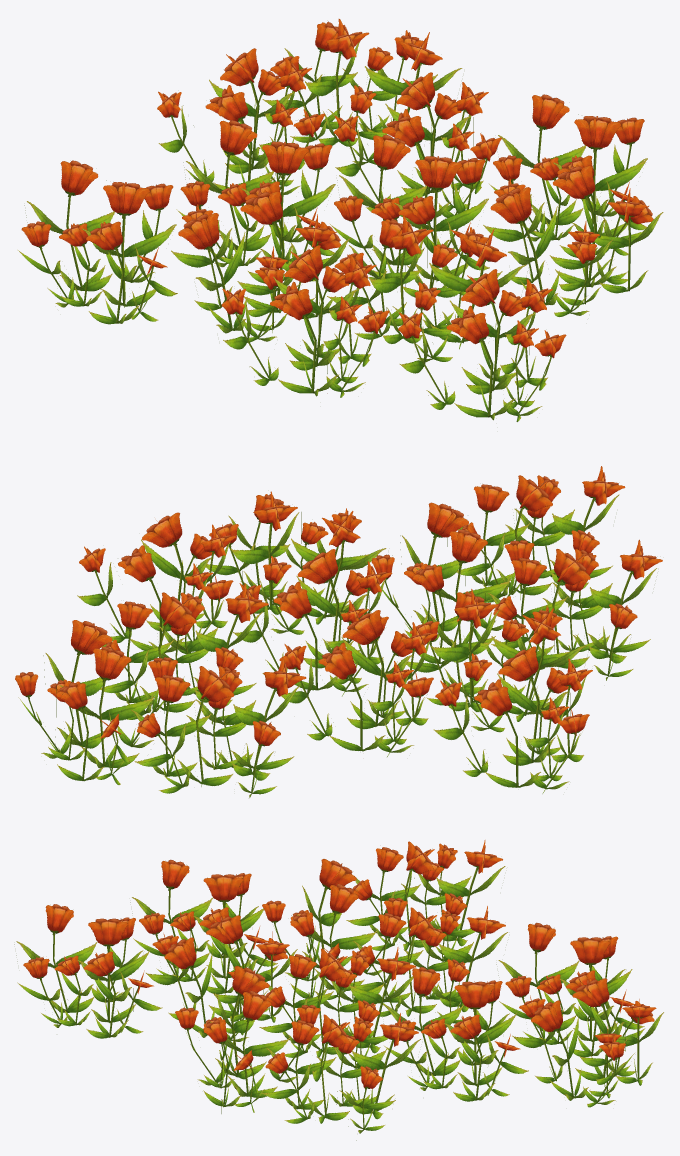
File: obj_macoprfl02-01.glb
3 renders of one model, top to bottom at view 1: azimuth 30°, elevation 25°; view 2: azimuth 150°, elevation 25°; view 3: azimuth 270°, elevation 25°, orthographic. The views are drawn at different scales.
Parts seen in each view (by area): view 1: part_0; view 2: part_0; view 3: part_0.
Part boxes in pixels (x1,y1,x2,y2): part_0: (18,19,663,421); part_0: (15,466,662,797); part_0: (14,840,663,1140).
Bounding box in the file's own units: 2.47 × 0.5671 × 2.9.
Materials: 1 (1 with a texture image).
